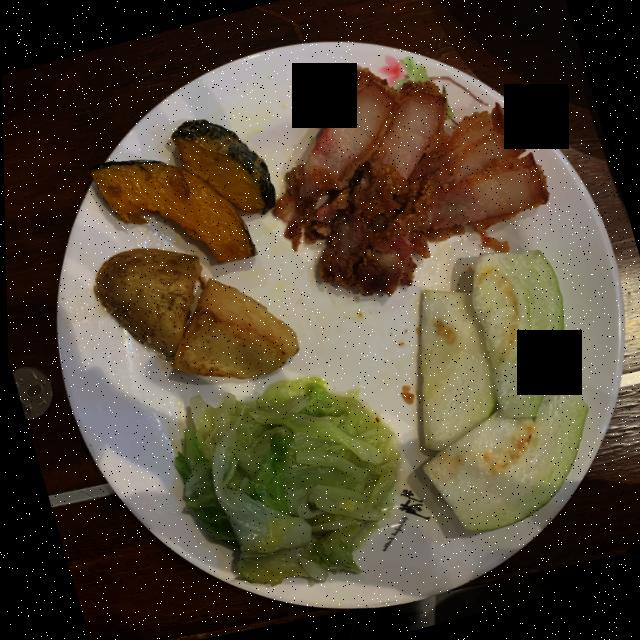cabbage: (172, 378, 397, 585)
coin: (9, 366, 51, 420)
fried potato: (92, 248, 296, 379)
guava -sliced-: (418, 250, 585, 531)
pumpkin: (89, 119, 273, 263)
red grilled pork: (272, 67, 546, 295)
